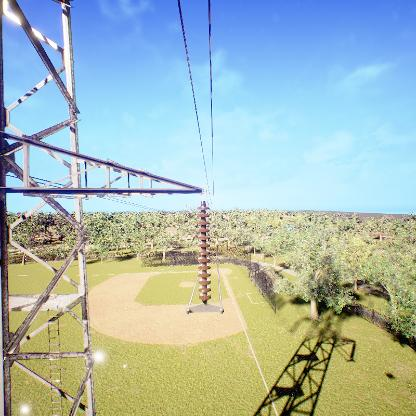insulator: (195, 202, 212, 303)
